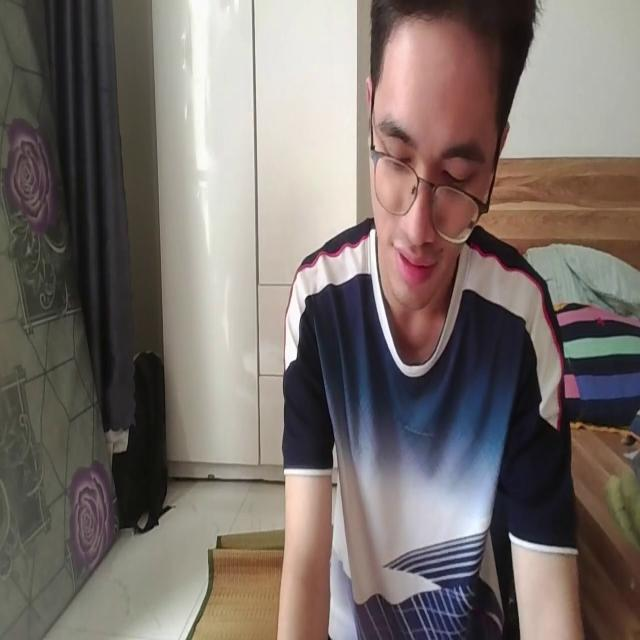student: (272, 1, 582, 640)
